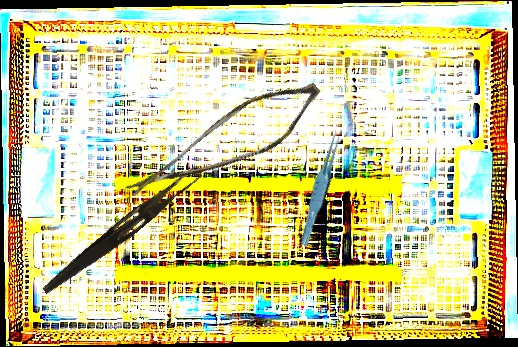Dressing Forceps: (40, 160, 203, 303)
Micro Scissor: (123, 51, 330, 239)
Tissue Forceps: (291, 127, 352, 248)
